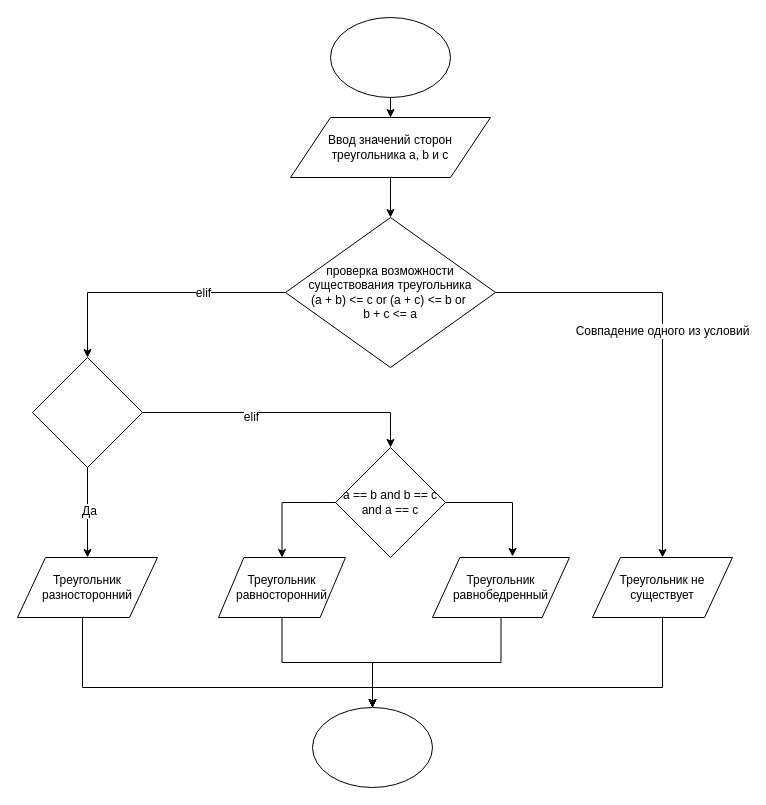
This 766x805 diagram has some shape labels left out. The shapes that lost their labels are listed below. From the top down, each one's centre as x and y in pixels, then its label:
At point 390,57: "Начало".
At point 87,412: "a != b and b != c and a != c".
At point 372,747: "Конец".
